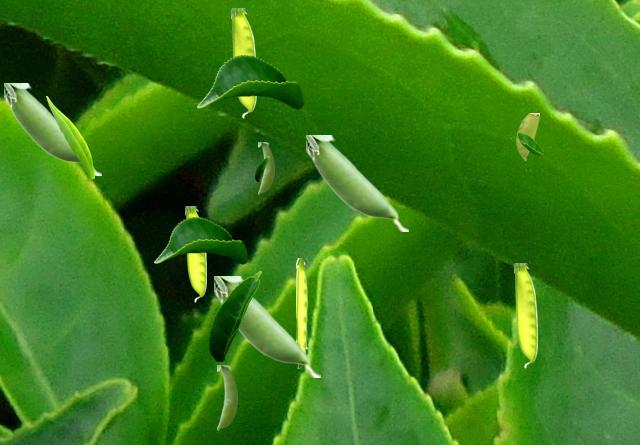pea: (214, 276, 319, 376), (306, 135, 407, 230), (4, 83, 100, 174), (231, 8, 255, 117), (514, 263, 536, 367), (185, 206, 205, 301), (296, 258, 312, 367), (217, 365, 236, 429), (516, 113, 538, 159), (258, 142, 273, 193)
